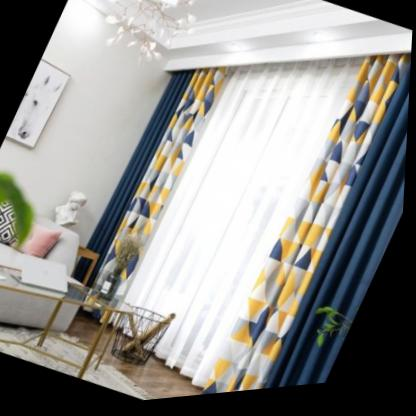Curtains: (72, 64, 412, 398)
